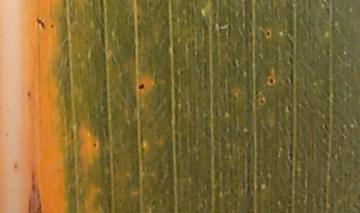tarspot: (36, 17, 47, 30), (137, 83, 145, 90), (265, 30, 272, 37), (25, 90, 31, 98), (269, 78, 275, 85), (259, 99, 265, 105), (49, 23, 55, 29), (92, 143, 98, 148)
